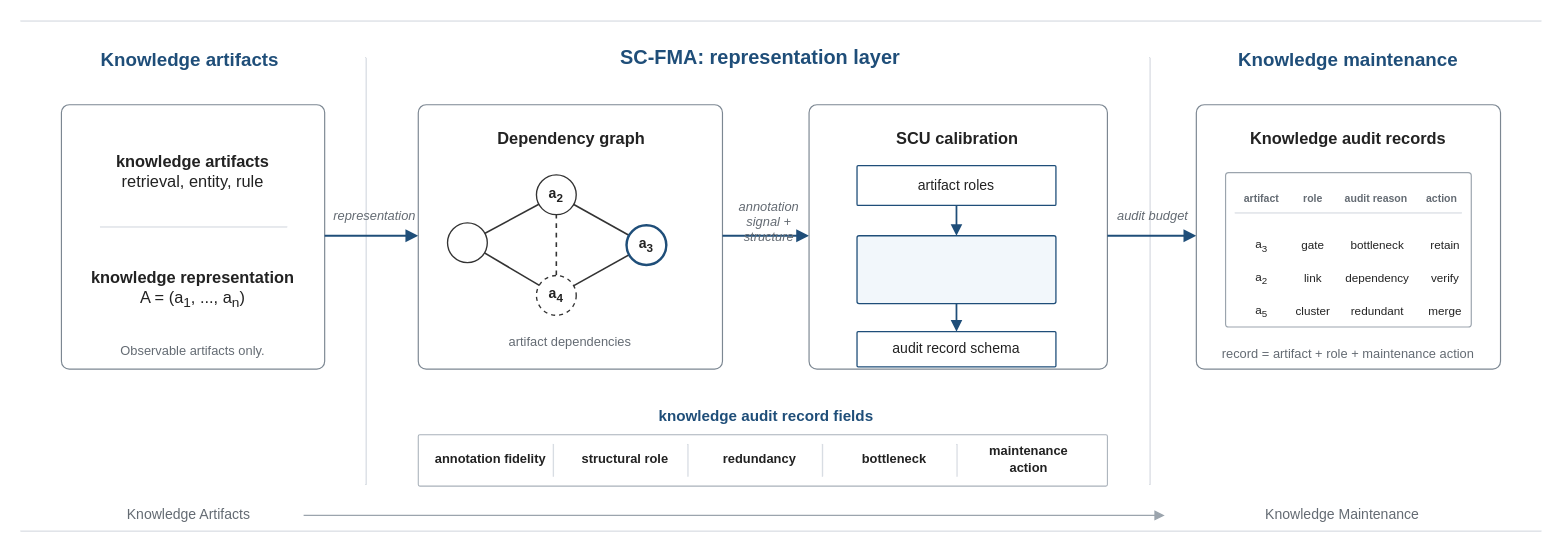
Some shapes in this 1562 by 552 pixel diagram are drawn without their labels. Each missing label, with the centre of its shape:
"a 1" belongs at (x=466, y=242).
"calibrate priority under fixed budget" belongs at (x=956, y=269).
